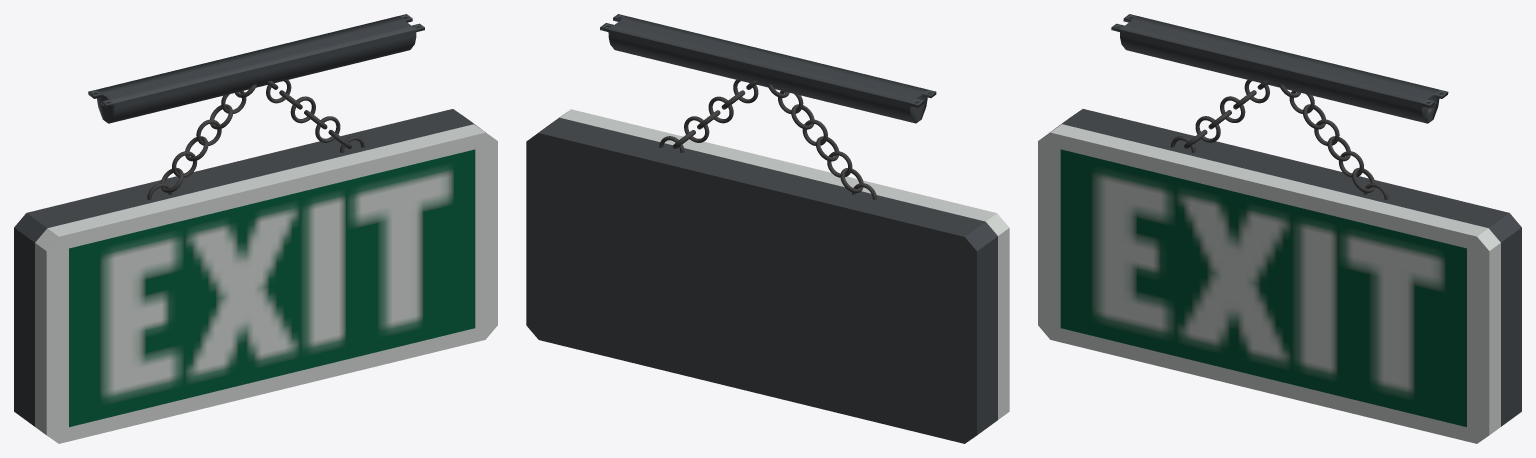
File: SM_Prop_Exit.fbx
The picture shows the model from 3 angles, left to right: view 1: azimuth 30°, elevation 25°; view 2: azimuth 150°, elevation 25°; view 3: azimuth 330°, elevation 25°; orthographic projection.
Visible parts, largest first — view 1: SM_Prop_Exit; view 2: SM_Prop_Exit; view 3: SM_Prop_Exit.
Part boxes in pixels (x1,y1,x2,y2): SM_Prop_Exit: (14, 14, 497, 443); SM_Prop_Exit: (526, 14, 1009, 443); SM_Prop_Exit: (1038, 14, 1521, 443).
Bounding box in the file's own units: 43.2 × 29.33 × 5.39.
Materials: 3 (2 with a texture image).
